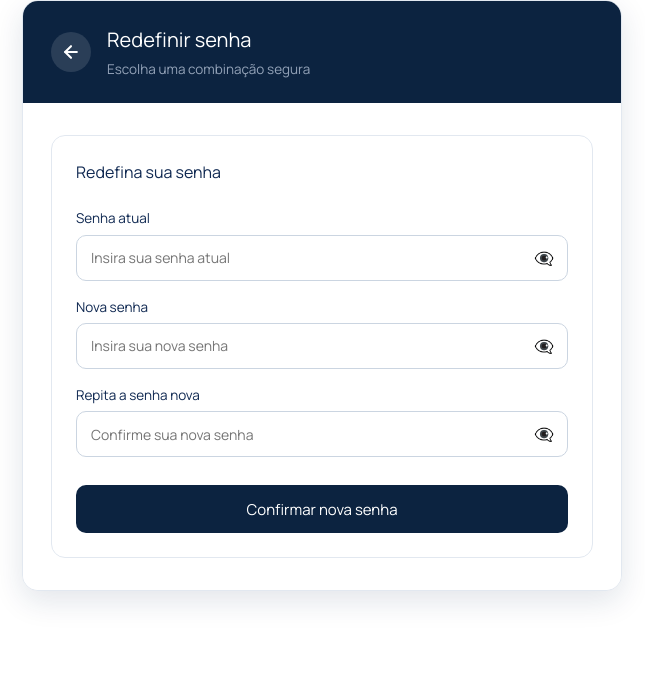
Scenario: ResetPasswordModal › exibe erro caso algum campo esteja vazio
Click the button "Confirmar nova senha" at coordinates (322, 509), box [76,485,568,533]
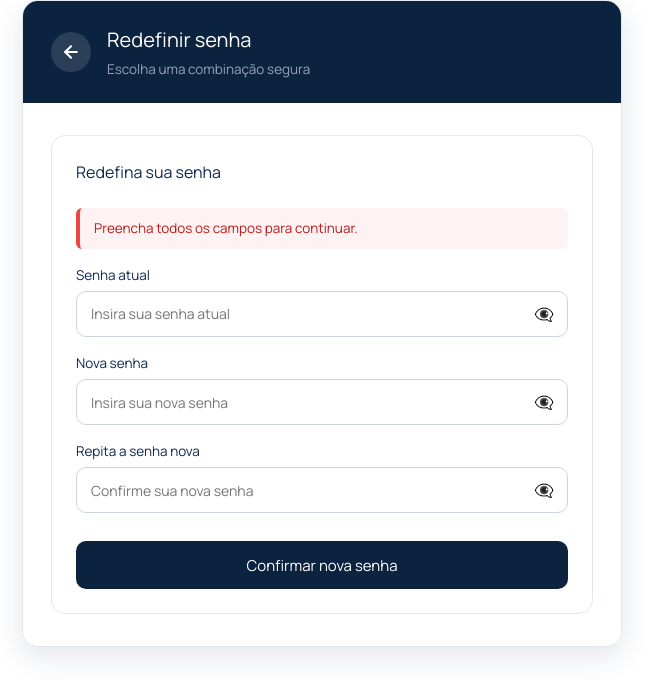
Now the text "Preencha todos os campos para continuar." is shown, box [76,208,568,249]
